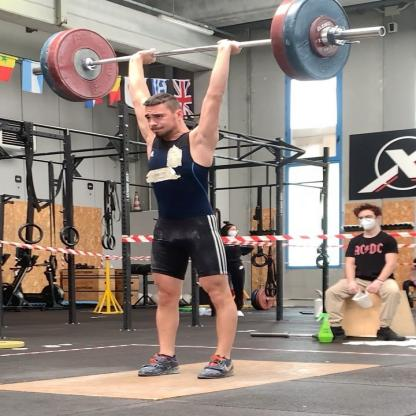barbell: (293, 1, 353, 82), (54, 29, 120, 102)
